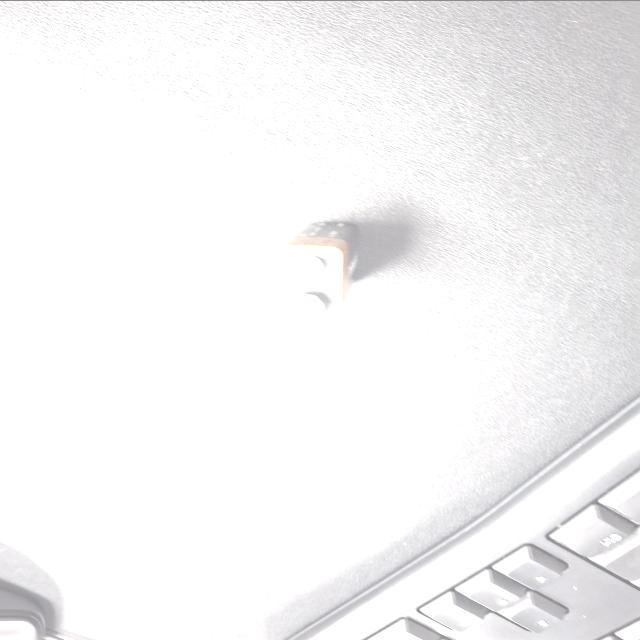9V: (426, 366, 558, 428)
